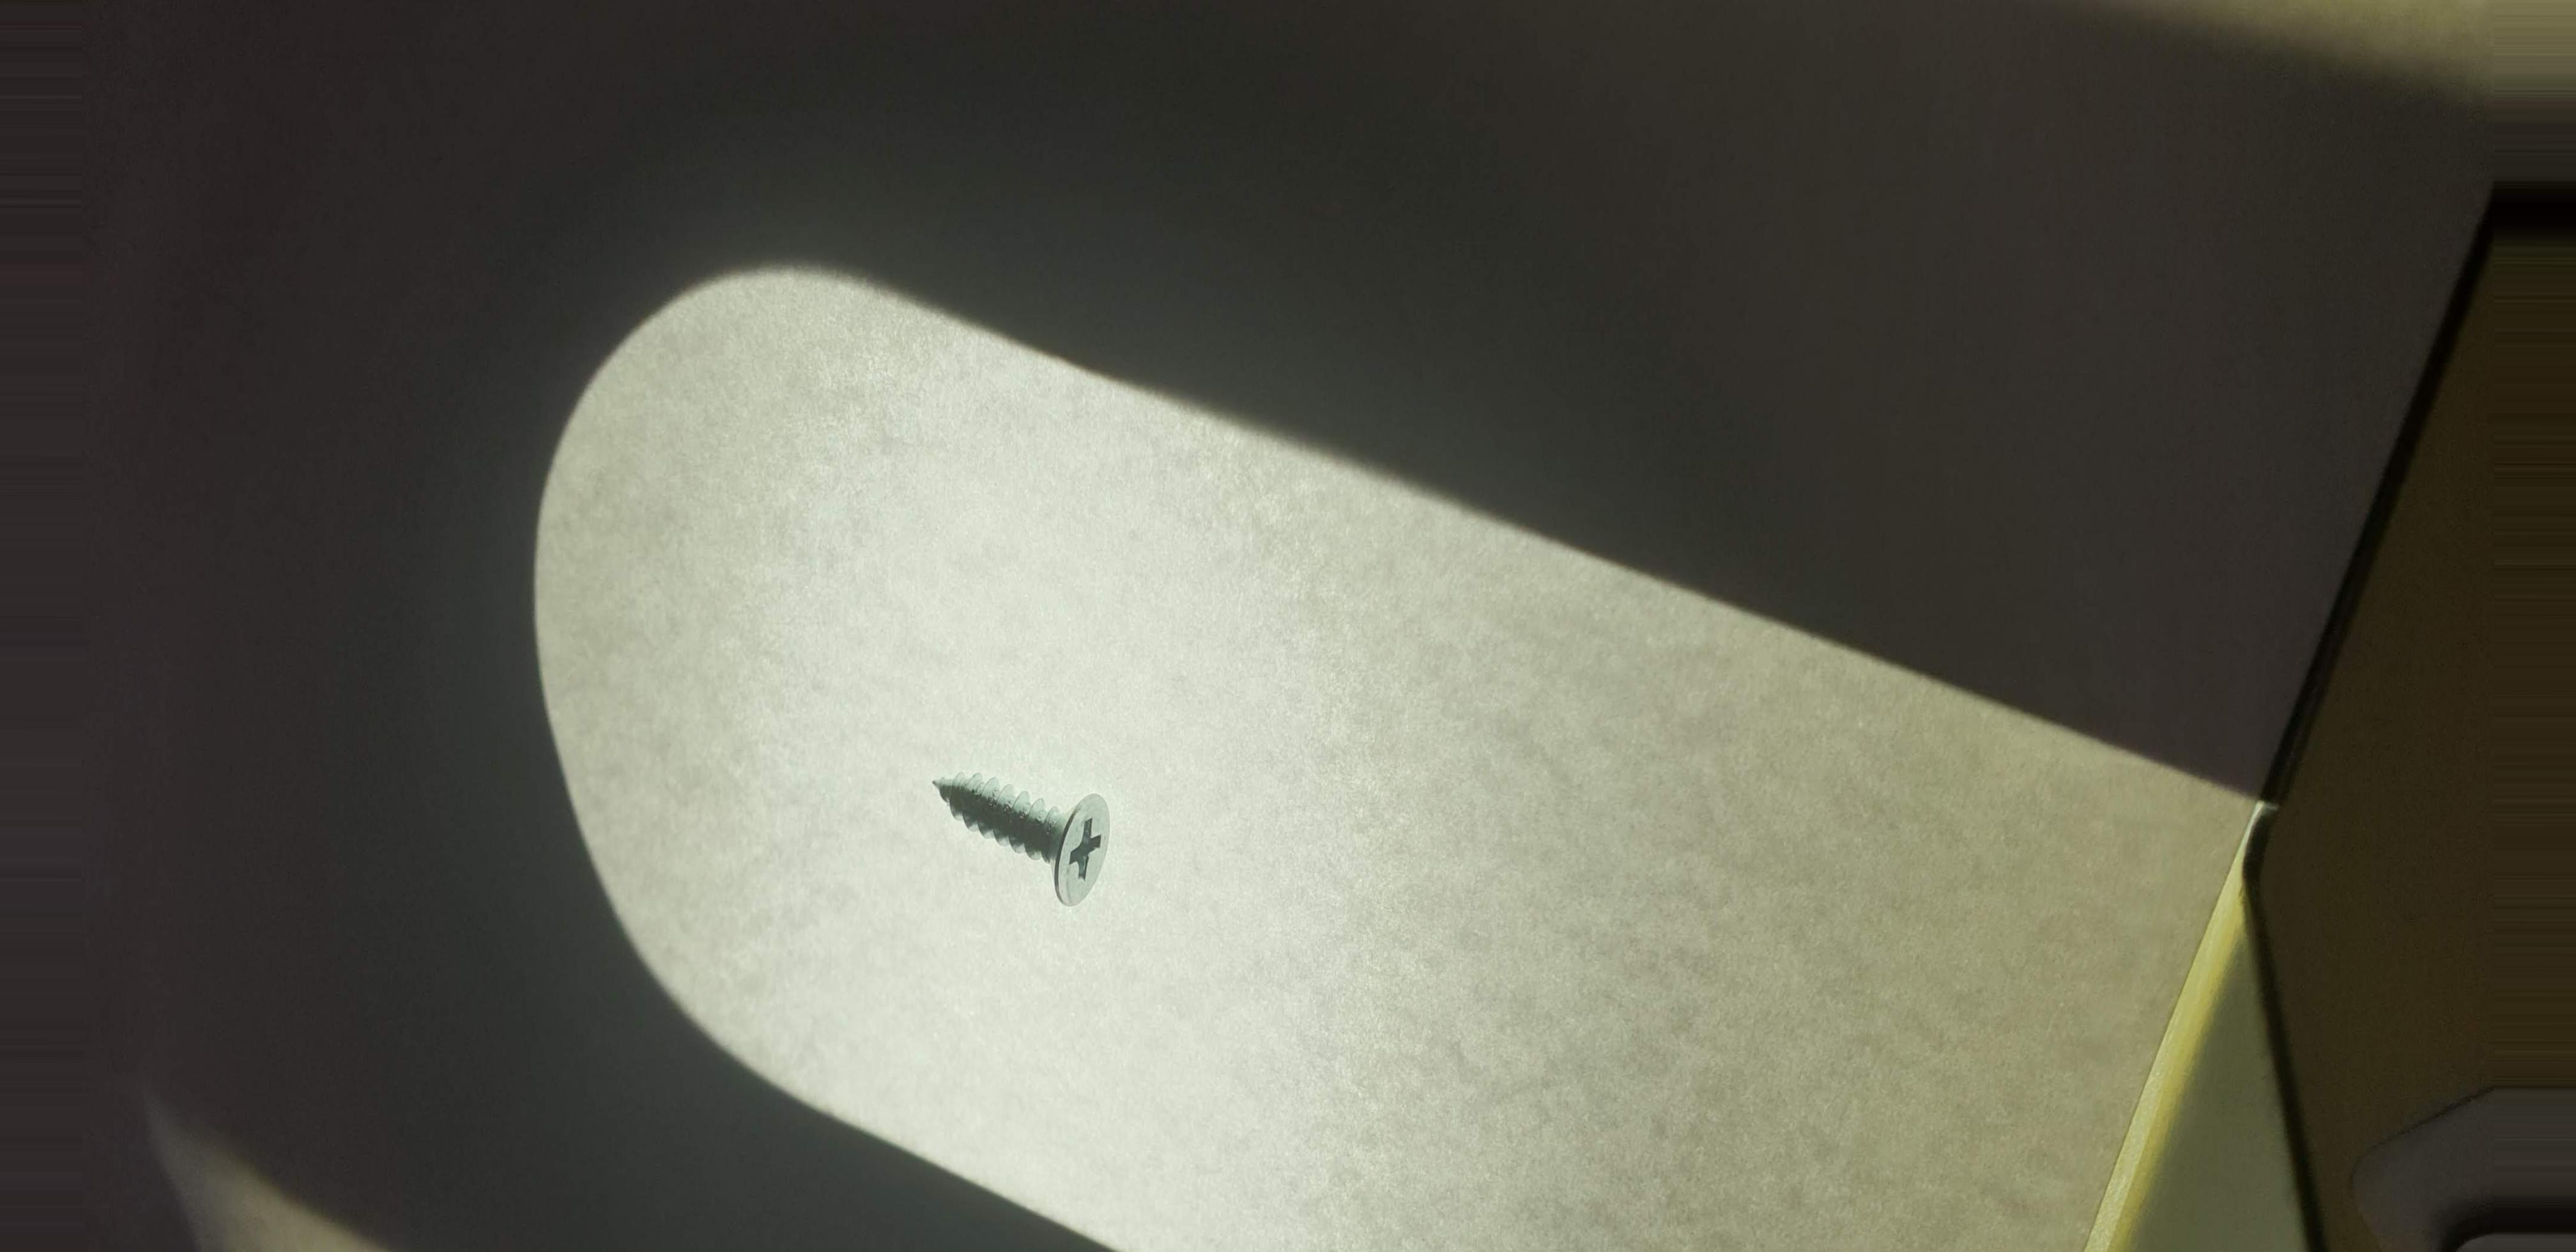S003: (890, 738, 1176, 943)
